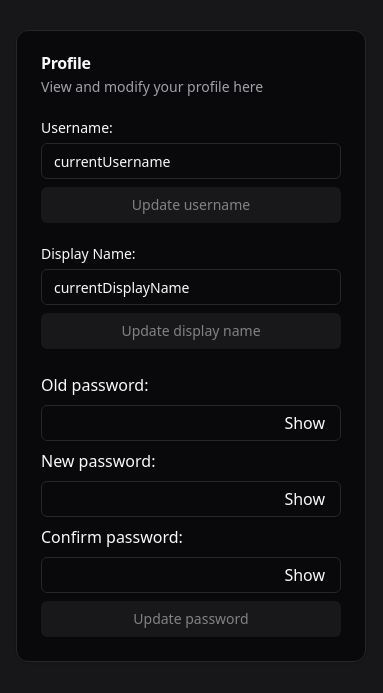
Test case: Profile Component › updates display name successfully
The width and height of the screenshot is (383, 693).
Replace the text in the field labelled "Display Name:" with "newDisplayName" at (191, 287), box [41,269,341,305]
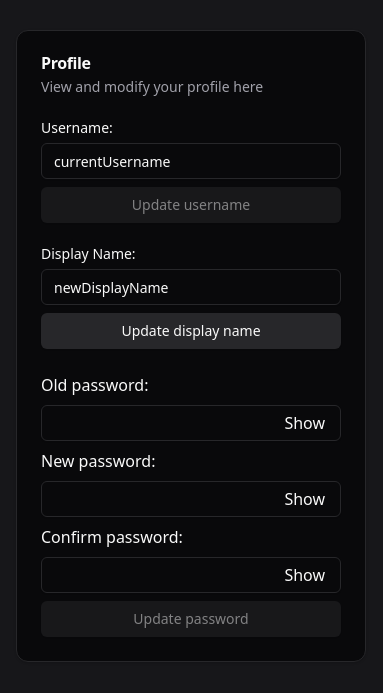
Click the button "Update display name" at (191, 331), box [41,313,341,349]
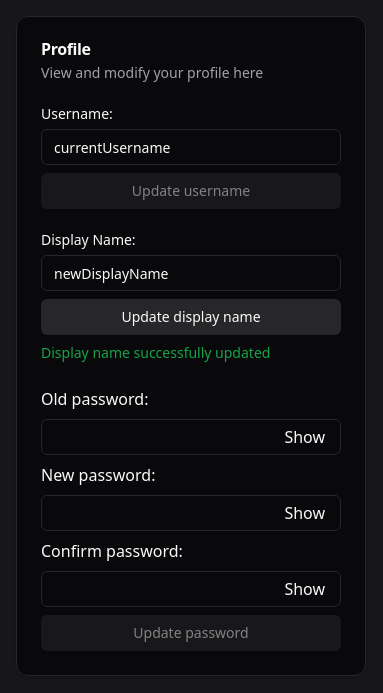
Check: the heading "Display name successfully updated" is shown, box [41,343,270,362]
